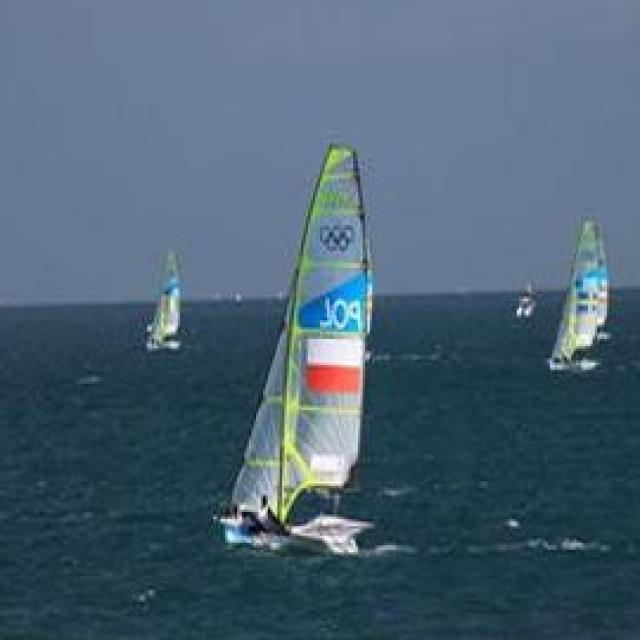sailboat: (220, 124, 390, 556), (544, 206, 620, 374), (140, 244, 192, 356)
